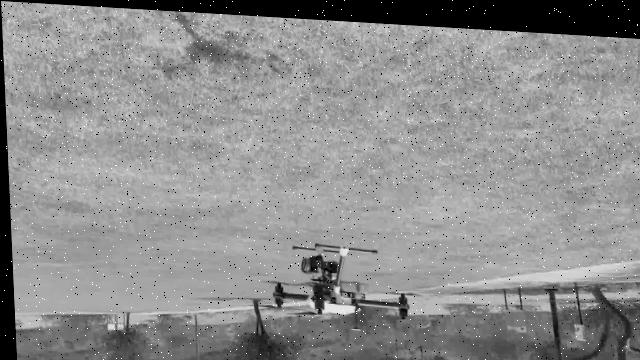drone: (258, 236, 409, 322)
